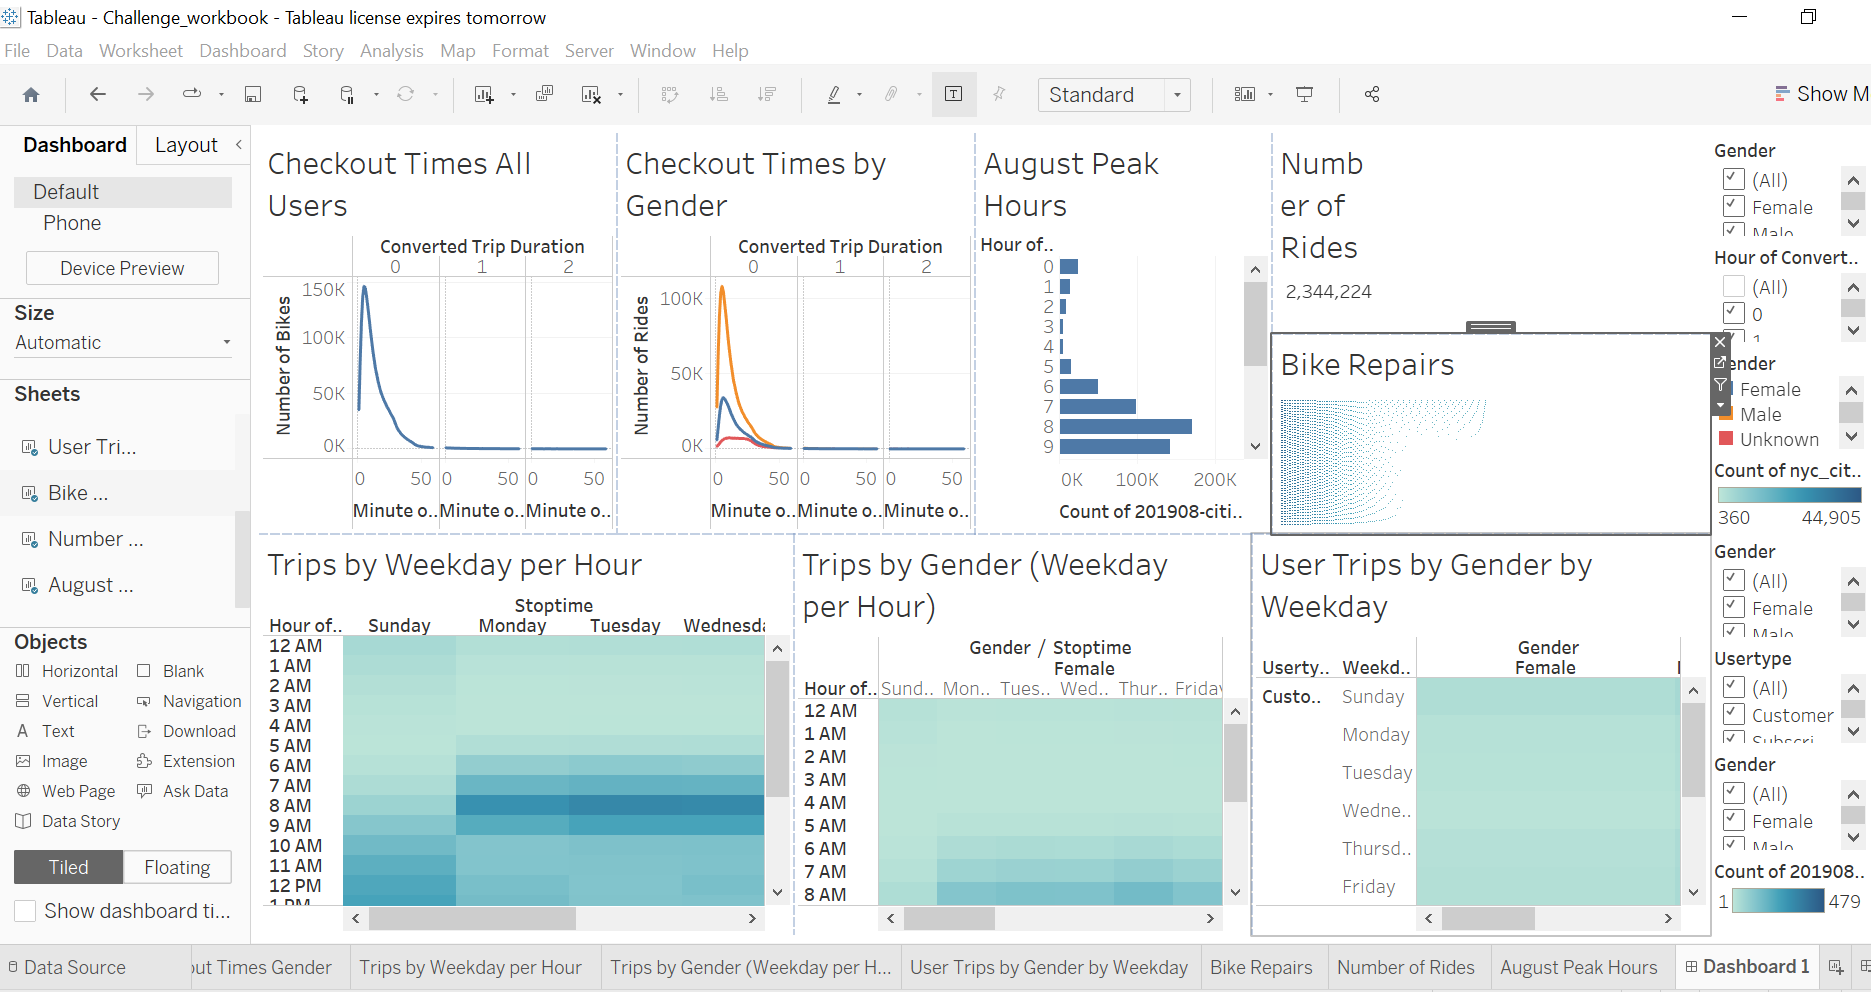

What the dashboard file says about the page in this screenshot:
{"tool":"tableau","page":{"name":"Dashboard 1","canvas":[1000,1000],"units":"permille","ordinal":0},"visuals":[{"type":"worksheet","title":"Checkout Times All Users","mark":"Automatic","rows":["nyc_citibike_2.csv_8FB314C15E614CAFBD34C5213F33A34F"],"cols":["converted_trip_duration","converted_trip_duration"],"box":[4.9,9.8,220,490.2]},{"type":"worksheet","title":"Checkout Times Gender","mark":"Automatic","rows":["nyc_citibike_2.csv_8FB314C15E614CAFBD34C5213F33A34F"],"cols":["converted_trip_duration","converted_trip_duration"],"box":[225,9.8,220.2,490.2]},{"type":"worksheet","title":"August Peak Hours","mark":"Bar","rows":["starttime"],"cols":["201908-citibike-tripdata.csv_77457DAB24234DB5A90897575194B37"],"box":[445.2,9.8,182.3,490.2]},{"type":"worksheet","title":"Number of Rides","mark":"Automatic","box":[627.5,9.8,269.2,245.1]},{"type":"filter","title":"Checkout Times Gender","param":"[federated.00epspg0ckgv0f1efmfps0zoh7le].[none:gender:nk]","box":[896.7,9.8,98.3,130.4]},{"type":"filter","title":"Checkout Times Gender","param":"[federated.00epspg0ckgv0f1efmfps0zoh7le].[hr:converted_trip_duration:ok]","box":[896.7,140.2,98.3,130.4]},{"type":"worksheet","title":"Bike Repairs","mark":"Automatic","box":[627.5,254.9,269.2,245.1]},{"type":"legend","title":"Checkout Times Gender","param":"[federated.00epspg0ckgv0f1efmfps0zoh7le].[none:gender:nk]","box":[896.7,270.6,98.3,130.4]},{"type":"legend","title":"Trips by Weekday per Hour","param":"[federated.00epspg0ckgv0f1efmfps0zoh7le].[__tableau_internal_object_id__].[cnt:n","box":[896.7,401,98.3,99]},{"type":"worksheet","title":"Trips by Weekday per Hour","mark":"Automatic","rows":["starttime"],"cols":["stoptime"],"box":[4.9,500,328.6,490.2]},{"type":"worksheet","title":"Trips by Gender (Weekday per Hour)","mark":"Automatic","rows":["starttime"],"cols":["gender","stoptime"],"box":[333.5,500,281.6,490.2]},{"type":"worksheet","title":"User Trips by Gender by Weekday","mark":"Automatic","rows":["usertype","starttime"],"cols":["gender"],"box":[615.1,500,281.6,490.2]},{"type":"filter","title":"Trips by Gender (Weekday per Hour)","param":"[federated.00epspg0ckgv0f1efmfps0zoh7le].[none:gender:nk]","box":[896.7,500,98.3,130.4]},{"type":"filter","title":"User Trips by Gender by Weekday","param":"[federated.00epspg0ckgv0f1efmfps0zoh7le].[none:usertype:nk]","box":[896.7,630.4,98.3,130.4]},{"type":"filter","title":"User Trips by Gender by Weekday","param":"[federated.00epspg0ckgv0f1efmfps0zoh7le].[none:gender:nk]","box":[896.7,760.8,98.3,130.4]},{"type":"legend","title":"Bike Repairs","param":"[federated.1c2gc570bpbxxp1e6wn6v1t0gu64].[__tableau_internal_object_id__].[cnt:2","box":[896.7,891.2,98.3,99]}]}

Visuals, with their boxes on the dashboard's canvas, which has no fixed pixel size, in thousandths of its width and height (x1, y1, x2, y2). These are canvas units, not pixel positions in the 1871x992 screenshot, which may show the page scaled, cropped or inside an application window:
"Checkout Times All Users" worksheet: crop(5, 10, 225, 500)
"Checkout Times Gender" worksheet: crop(225, 10, 445, 500)
"August Peak Hours" worksheet (Bar marks): crop(445, 10, 628, 500)
"Number of Rides" worksheet: crop(628, 10, 897, 255)
"Checkout Times Gender" filter: crop(897, 10, 995, 140)
"Checkout Times Gender" filter: crop(897, 140, 995, 271)
"Bike Repairs" worksheet: crop(628, 255, 897, 500)
"Checkout Times Gender" legend: crop(897, 271, 995, 401)
"Trips by Weekday per Hour" legend: crop(897, 401, 995, 500)
"Trips by Weekday per Hour" worksheet: crop(5, 500, 334, 990)
"Trips by Gender (Weekday per Hour)" worksheet: crop(334, 500, 615, 990)
"User Trips by Gender by Weekday" worksheet: crop(615, 500, 897, 990)
"Trips by Gender (Weekday per Hour)" filter: crop(897, 500, 995, 630)
"User Trips by Gender by Weekday" filter: crop(897, 630, 995, 761)
"User Trips by Gender by Weekday" filter: crop(897, 761, 995, 891)
"Bike Repairs" legend: crop(897, 891, 995, 990)
